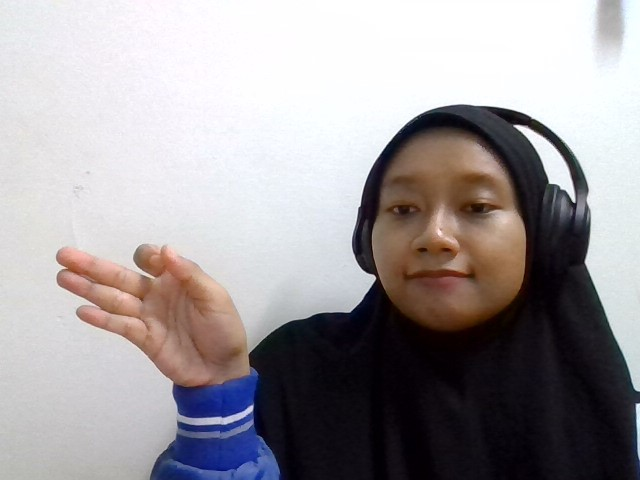Tudung: (55, 242, 249, 388)
